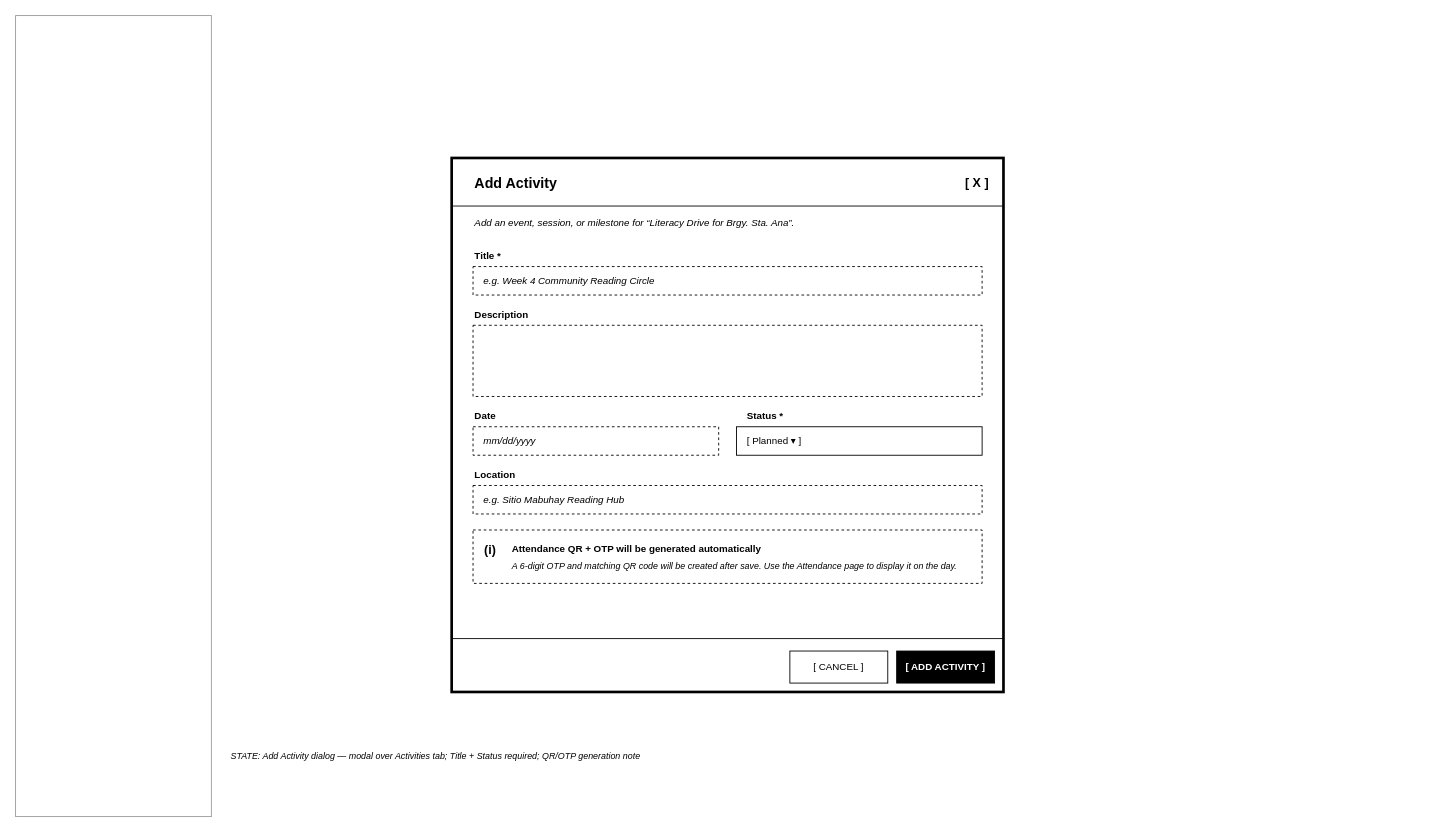
This 1437x832 diagram has some shape labels left out. Each missing label, with the centre of its shape:
"AGAPE" goes at [113,416].
"What will happen during this activity?" goes at [727,360].
